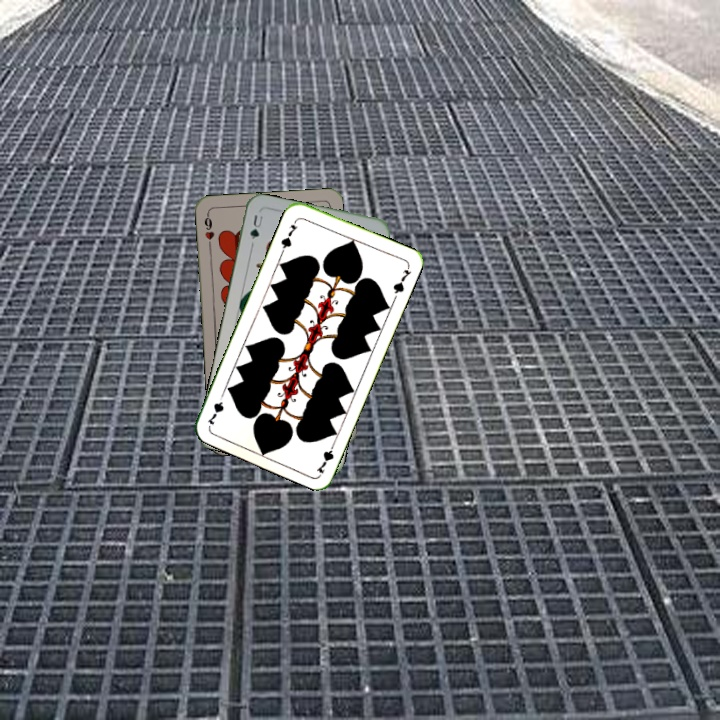G7: (312, 437, 338, 476), (277, 216, 300, 254)
GU: (246, 210, 265, 242)
H9: (200, 210, 217, 251)
